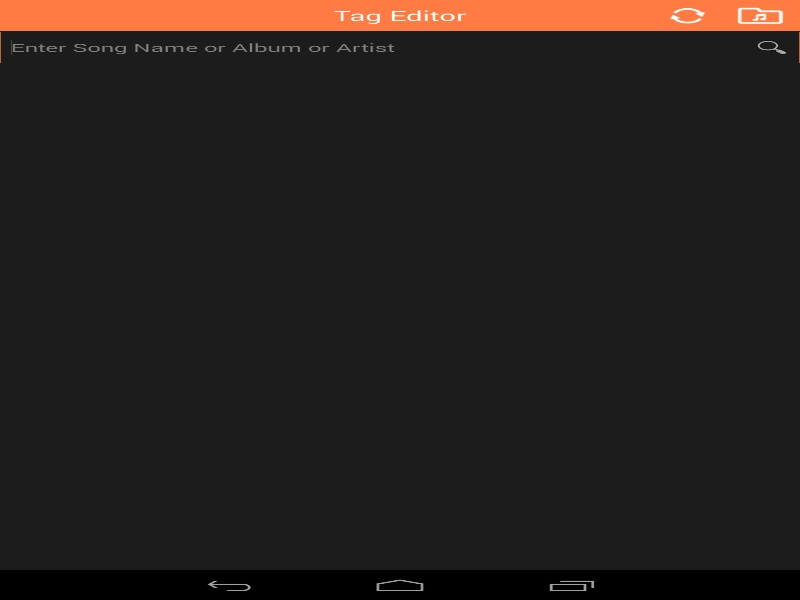Button: (653, 0, 720, 31), (726, 0, 793, 31)
Input: (10, 31, 793, 63)
